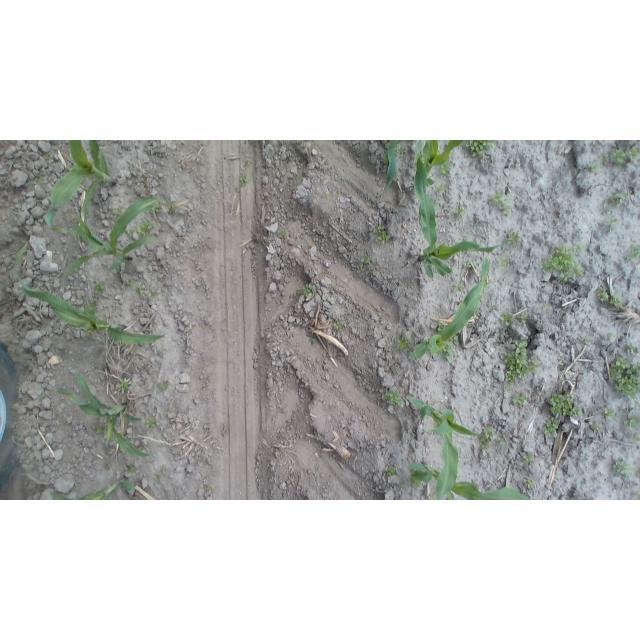Maize: (10, 237, 171, 347), (410, 144, 507, 283), (59, 193, 173, 280), (52, 370, 156, 462), (408, 257, 493, 364), (409, 394, 488, 500), (46, 140, 120, 236), (406, 457, 530, 499), (44, 472, 144, 500), (418, 140, 467, 186), (375, 141, 405, 200)
Weeds: (502, 338, 540, 387), (539, 242, 586, 281), (609, 356, 638, 401), (547, 393, 581, 419), (492, 189, 512, 216), (596, 285, 620, 307), (604, 190, 629, 211), (466, 140, 495, 158), (611, 455, 632, 477), (372, 223, 392, 245), (479, 427, 496, 451), (609, 148, 629, 166), (382, 388, 402, 406), (544, 417, 561, 438), (603, 292, 623, 309), (137, 220, 156, 237), (622, 411, 638, 429), (439, 344, 454, 361), (512, 391, 529, 406), (301, 283, 315, 300), (506, 231, 521, 246), (397, 336, 412, 350), (627, 243, 638, 261), (116, 378, 131, 391), (587, 420, 601, 433), (604, 407, 617, 421), (145, 416, 158, 430), (628, 146, 640, 161), (440, 165, 453, 178), (500, 313, 513, 326), (523, 477, 536, 490), (604, 332, 618, 344), (92, 281, 105, 293), (454, 280, 466, 293), (114, 206, 126, 219), (455, 204, 466, 218), (38, 149, 54, 158), (384, 466, 397, 477), (522, 453, 535, 464), (411, 478, 422, 491), (605, 216, 619, 226), (519, 312, 530, 324), (587, 163, 599, 174), (157, 381, 170, 391), (412, 153, 420, 168), (33, 172, 43, 184), (89, 300, 98, 313), (279, 229, 289, 240), (436, 183, 447, 193), (599, 155, 609, 166), (151, 203, 162, 213), (360, 255, 372, 264), (240, 173, 249, 185), (462, 260, 474, 269), (333, 321, 343, 331), (95, 424, 105, 434), (450, 335, 460, 345), (125, 465, 136, 474), (396, 146, 406, 155), (582, 336, 592, 345), (136, 285, 145, 295), (437, 323, 446, 333), (307, 335, 317, 344), (498, 435, 506, 446), (484, 275, 490, 289), (633, 488, 640, 500), (499, 258, 508, 267), (125, 278, 134, 287), (84, 328, 93, 337), (502, 384, 511, 393), (153, 474, 161, 484), (627, 343, 635, 353), (203, 484, 213, 492), (382, 154, 388, 167), (149, 289, 156, 300), (314, 432, 322, 441), (399, 481, 406, 491), (632, 431, 639, 441), (426, 493, 437, 499), (126, 228, 134, 236), (288, 200, 296, 208), (434, 202, 441, 210), (489, 302, 498, 308), (544, 302, 551, 309)
